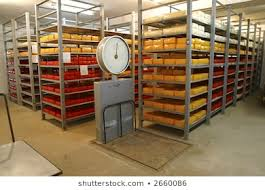Industrial Scale: (93, 35, 194, 171)
